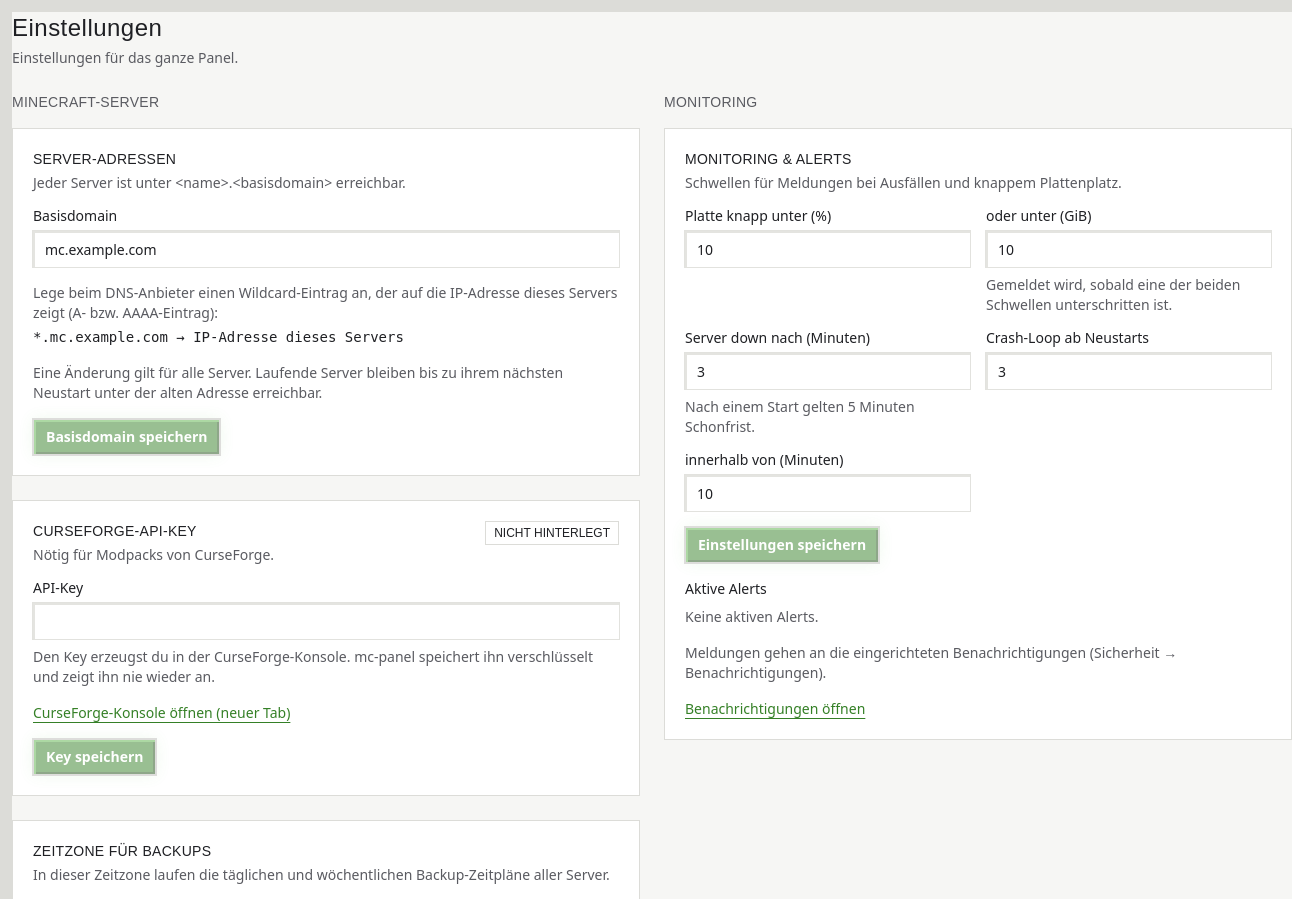
Test case: MonitoringCard › saves changed thresholds in bytes
Expected: the button "Einstellungen speichern" is disabled, [685,527,879,563]
Replace the text in the field labelled "Server down nach (Minuten)" with "5" at (828, 371), box [685,353,970,389]
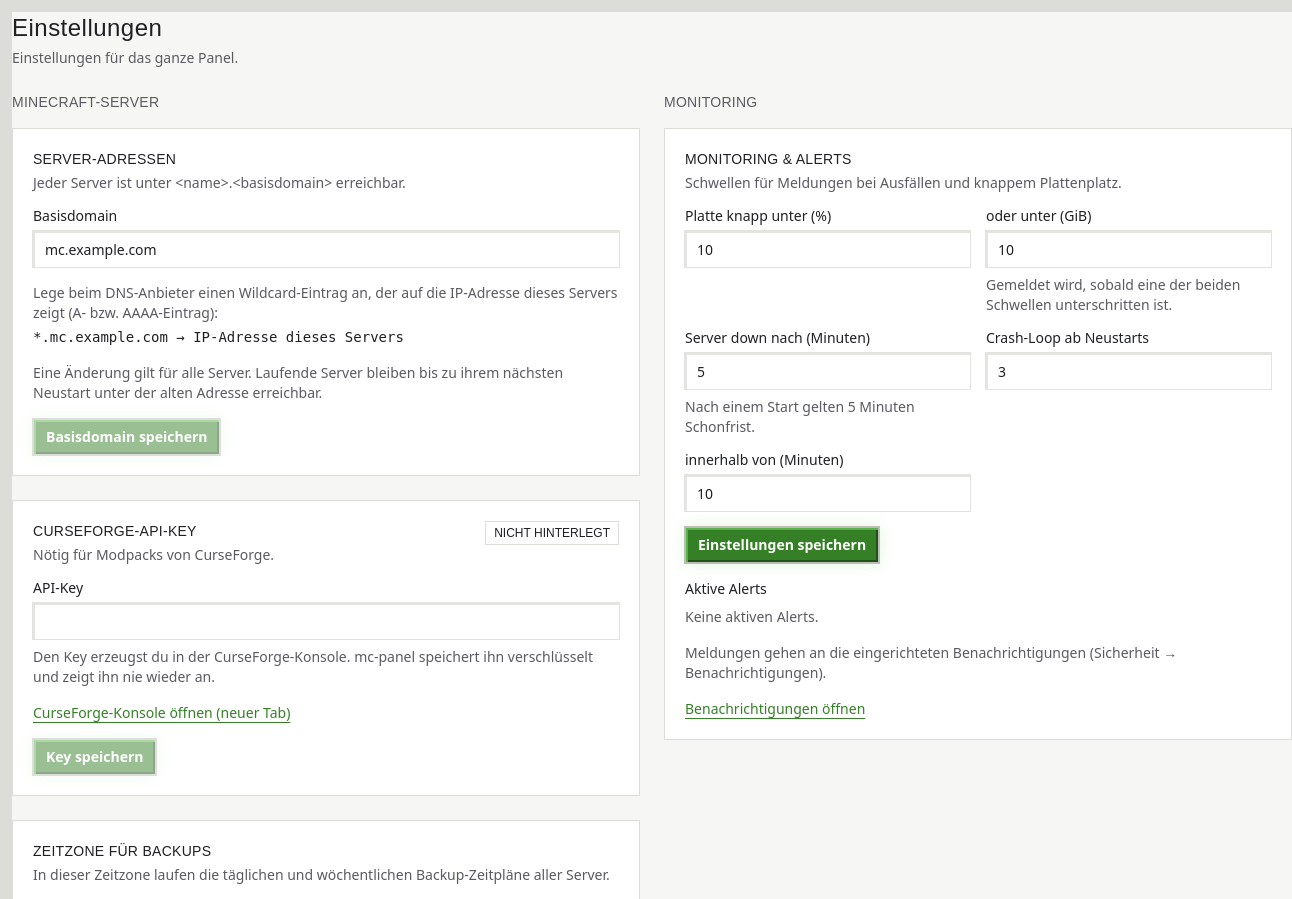
Replace the text in the field labelled "oder unter (GiB)" with "20" at (1128, 249), box [986,231,1271,267]
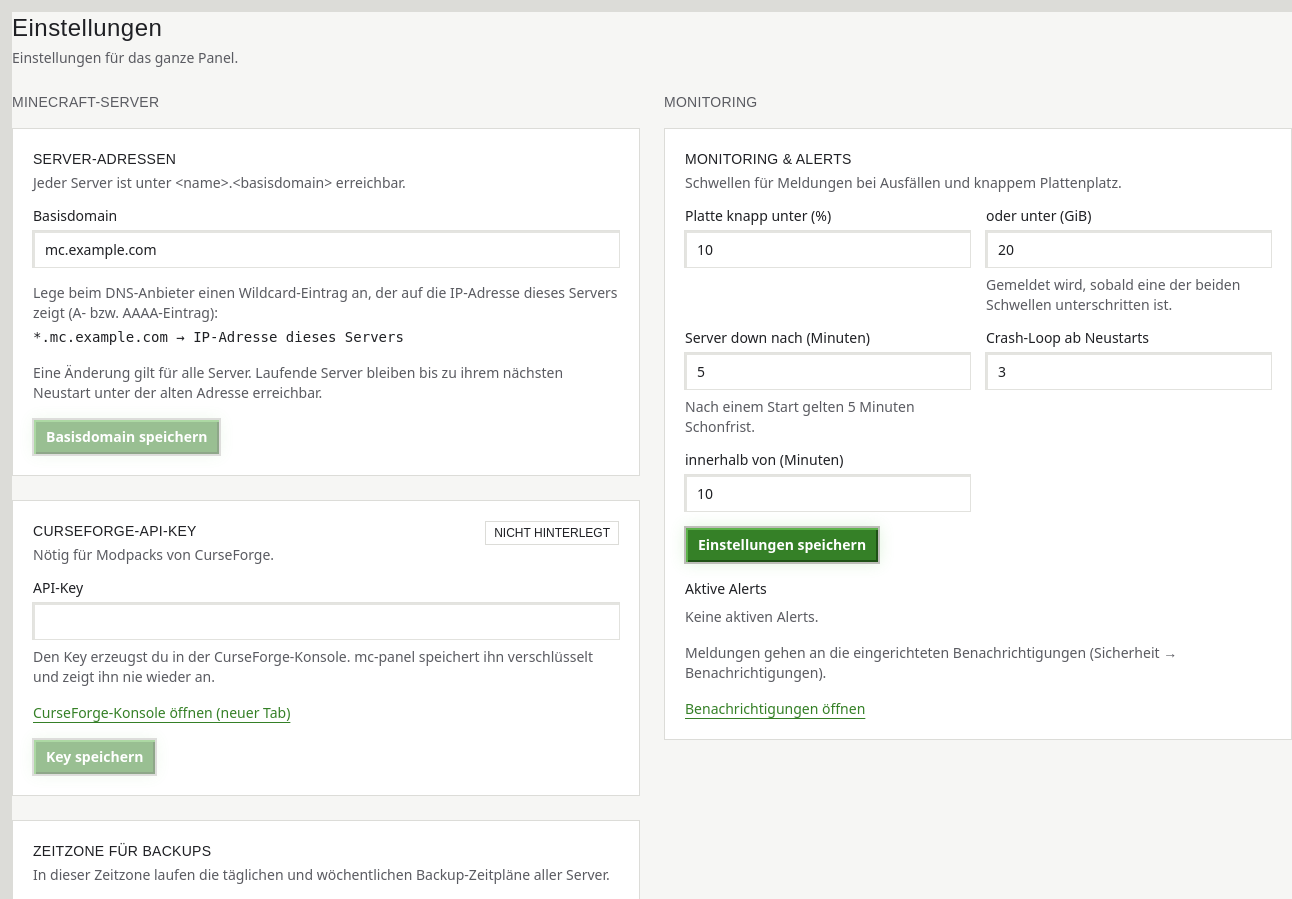
Click the button "Einstellungen speichern" at (782, 545), box [685,527,879,563]
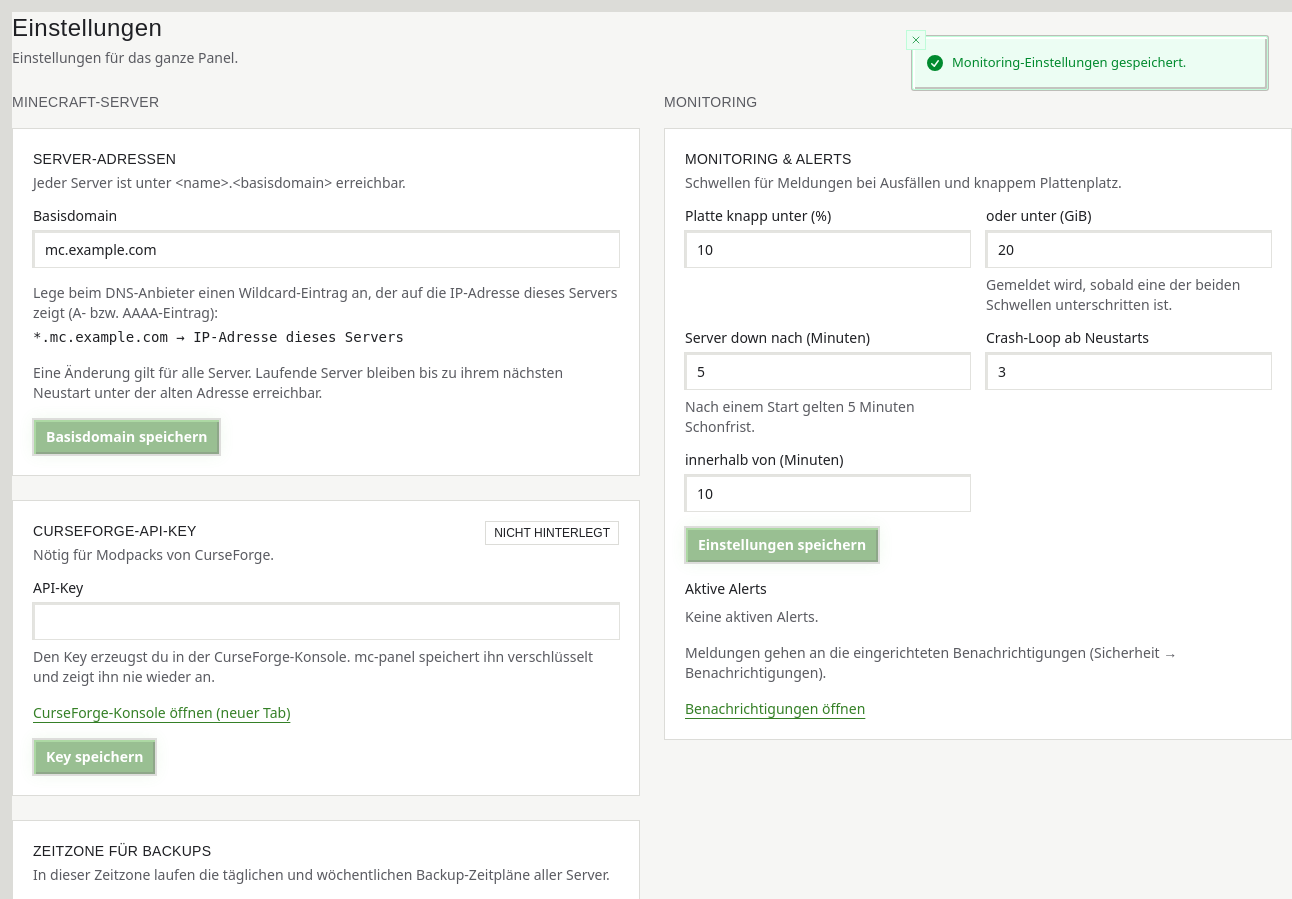
Now the text "Monitoring-Einstellungen gespeichert." is shown, box [952,53,1186,72]
